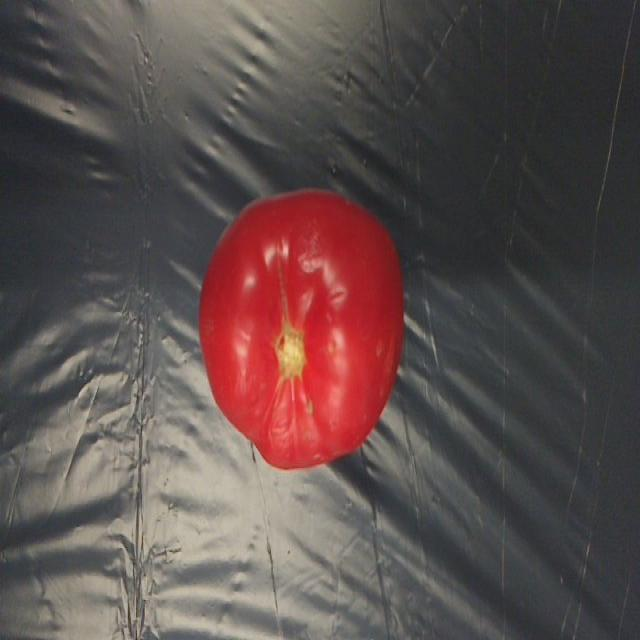kirmizi: (188, 192, 436, 480)
